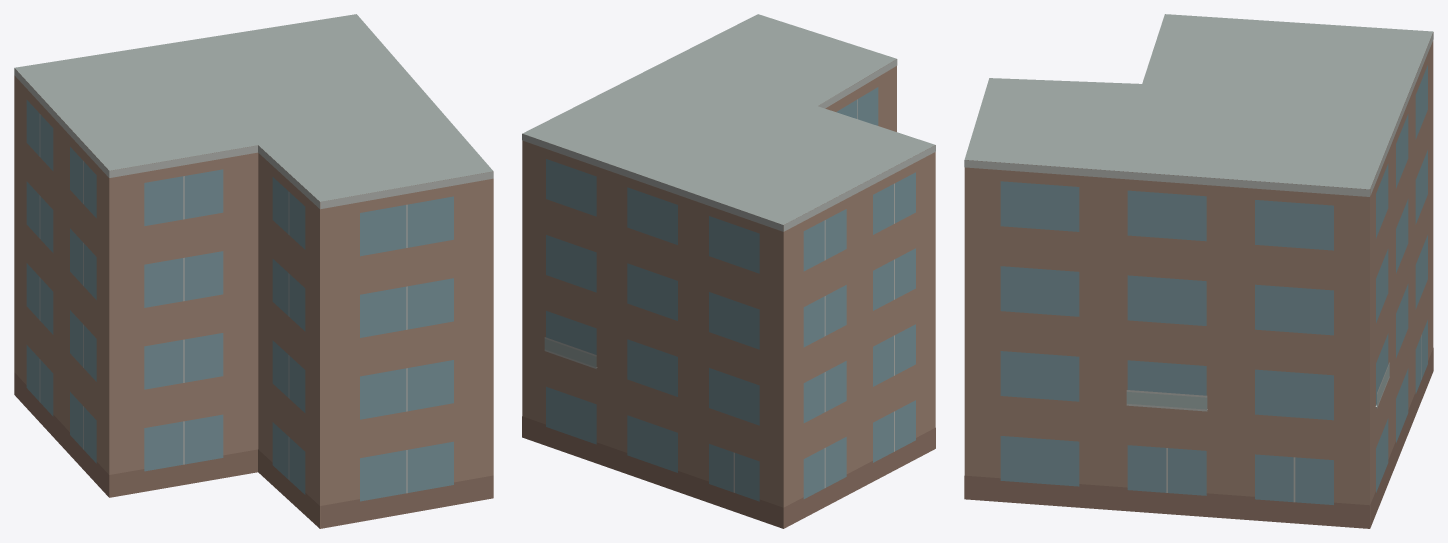
Rendered from survey-upis-32679087.glb.
3 views of the same model, side by side, from view 1: azimuth 30°, elevation 25°; view 2: azimuth 150°, elevation 25°; view 3: azimuth 270°, elevation 25° (orthographic). The views are drawn at different scales.
Visible parts, largest first — view 1: survey-upis-32679087.tmp; view 2: survey-upis-32679087.tmp; view 3: survey-upis-32679087.tmp.
Boxes of the visible parts, x1,y1,x2,y2 form: survey-upis-32679087.tmp: (14, 14, 493, 528); survey-upis-32679087.tmp: (522, 14, 935, 528); survey-upis-32679087.tmp: (964, 14, 1433, 528).
Bounding box in the file's own units: 12.02 × 10.84 × 13.59.
